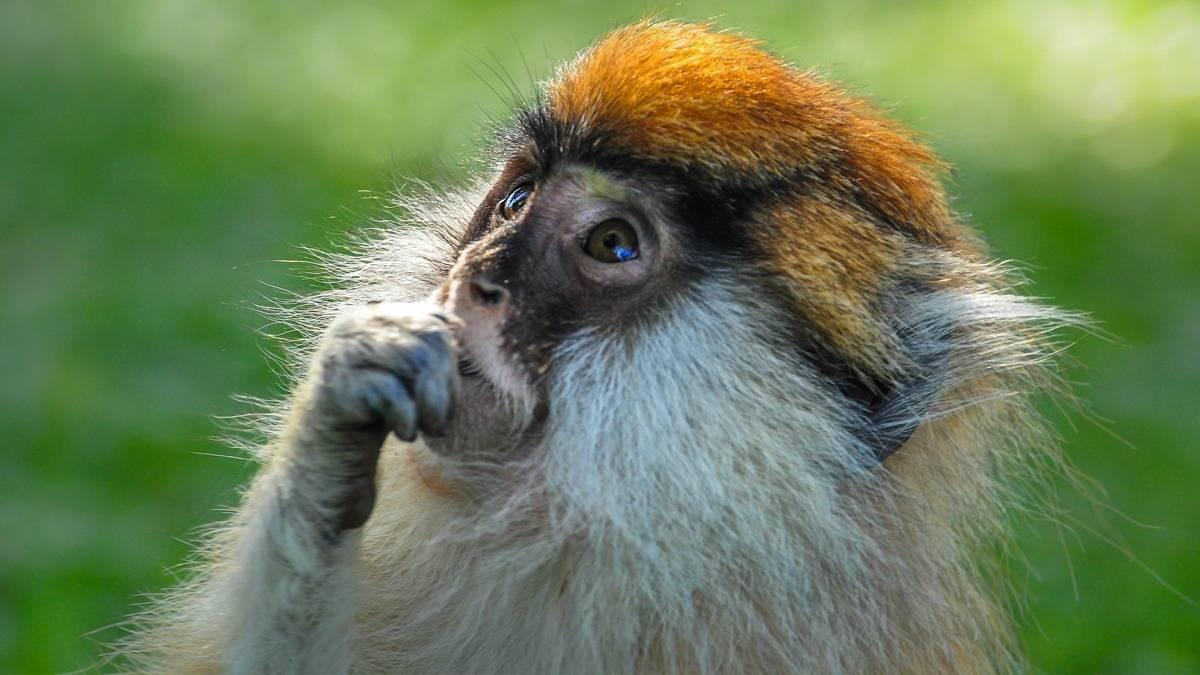monkey: (147, 19, 1085, 675)
